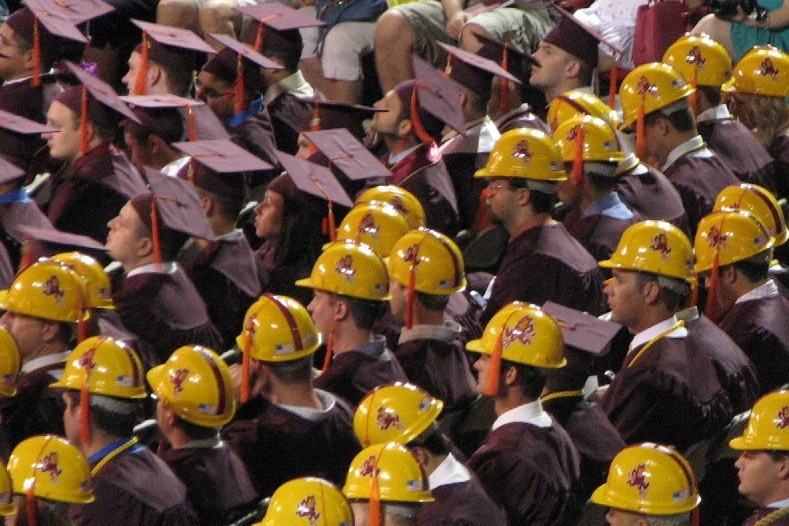none: (39, 78, 111, 158), (247, 164, 321, 241), (107, 193, 169, 270), (368, 78, 435, 145), (125, 39, 190, 103), (195, 52, 258, 118), (527, 28, 590, 91), (2, 9, 61, 75), (124, 100, 183, 164)
yellow: (467, 299, 566, 401), (56, 336, 141, 447), (594, 444, 703, 526), (599, 220, 688, 320), (476, 122, 562, 225), (353, 377, 446, 471), (151, 346, 237, 446), (383, 226, 464, 326), (237, 295, 318, 394), (304, 240, 382, 339), (693, 208, 775, 302), (11, 430, 92, 523), (5, 258, 82, 355), (616, 63, 692, 159), (345, 446, 431, 526), (732, 387, 789, 499), (551, 115, 621, 204), (660, 33, 730, 110), (733, 43, 789, 127)
